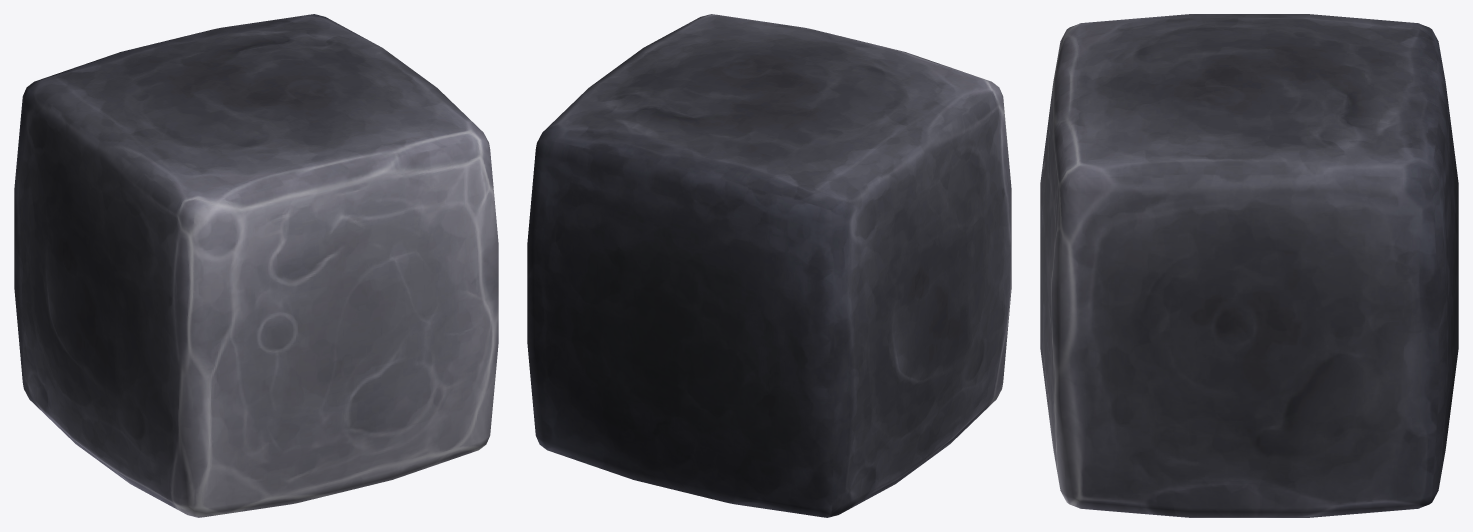
The model's file is rock1fix.fbx.
3 views of the same model, side by side, from view 1: azimuth 30°, elevation 25°; view 2: azimuth 150°, elevation 25°; view 3: azimuth 270°, elevation 25° (orthographic). The views are drawn at different scales.
Parts seen in each view (by area): view 1: Cube; view 2: Cube; view 3: Cube.
Boxes of the visible parts, x1=… form: Cube: x1=14, y1=14, x2=498, y2=517; Cube: x1=527, y1=14, x2=1011, y2=517; Cube: x1=1040, y1=14, x2=1458, y2=517.
Bounding box in the file's own units: 2.09 × 2.09 × 2.09.
